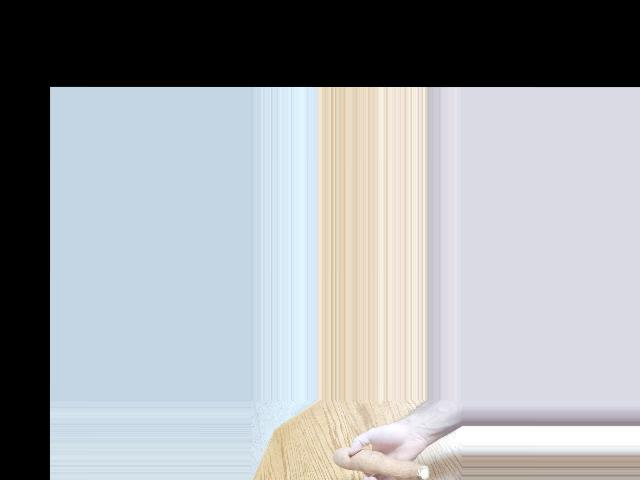sweet_potato: (329, 451, 437, 480)
